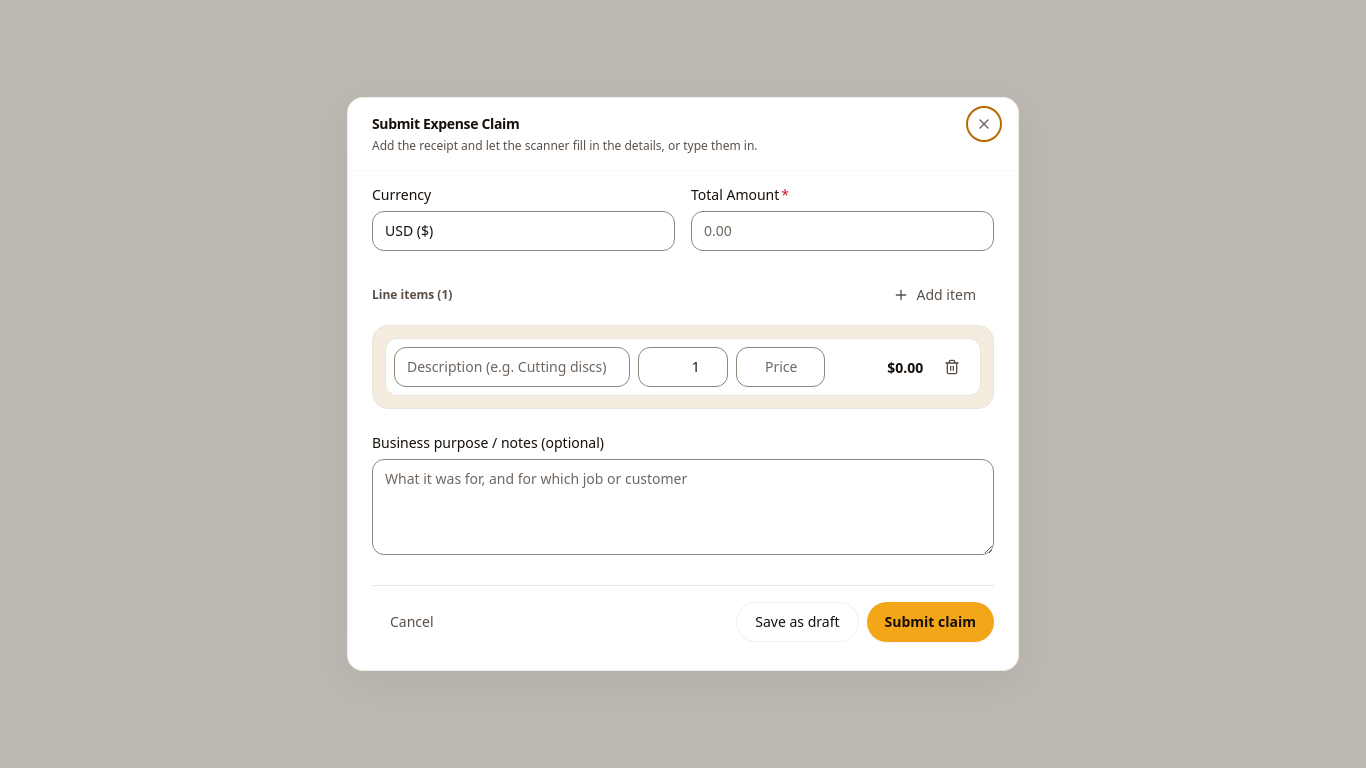
Scenario: SubmitExpenseModal Component › shows each problem under its field and moves focus to the first
The image size is (1366, 768).
(page scrolled)
Click the button with test id "btn-submit-claim" at (930, 622), box x1=866 y1=602 x2=994 y2=642
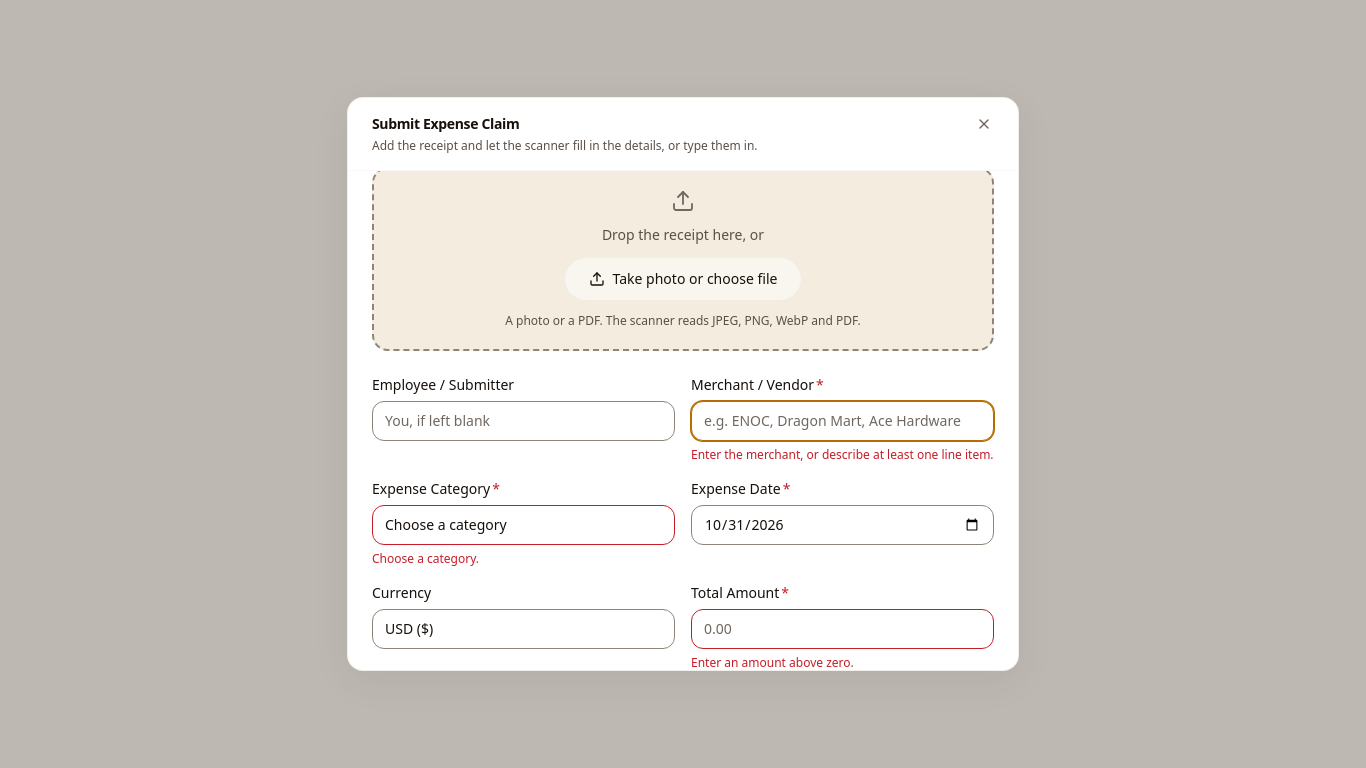
Result: the text "Enter the merchant, or describe at least one line item." is shown at x1=691 y1=447 x2=994 y2=463
Result: the text "Choose a category." is shown at x1=372 y1=550 x2=479 y2=567
Result: the text "Enter an amount above zero." is shown at x1=691 y1=654 x2=854 y2=670
// Fixing a field clears its message.
Type "ENOC" into the field with test id "input-merchant-name" at (842, 421), box x1=691 y1=401 x2=994 y2=441
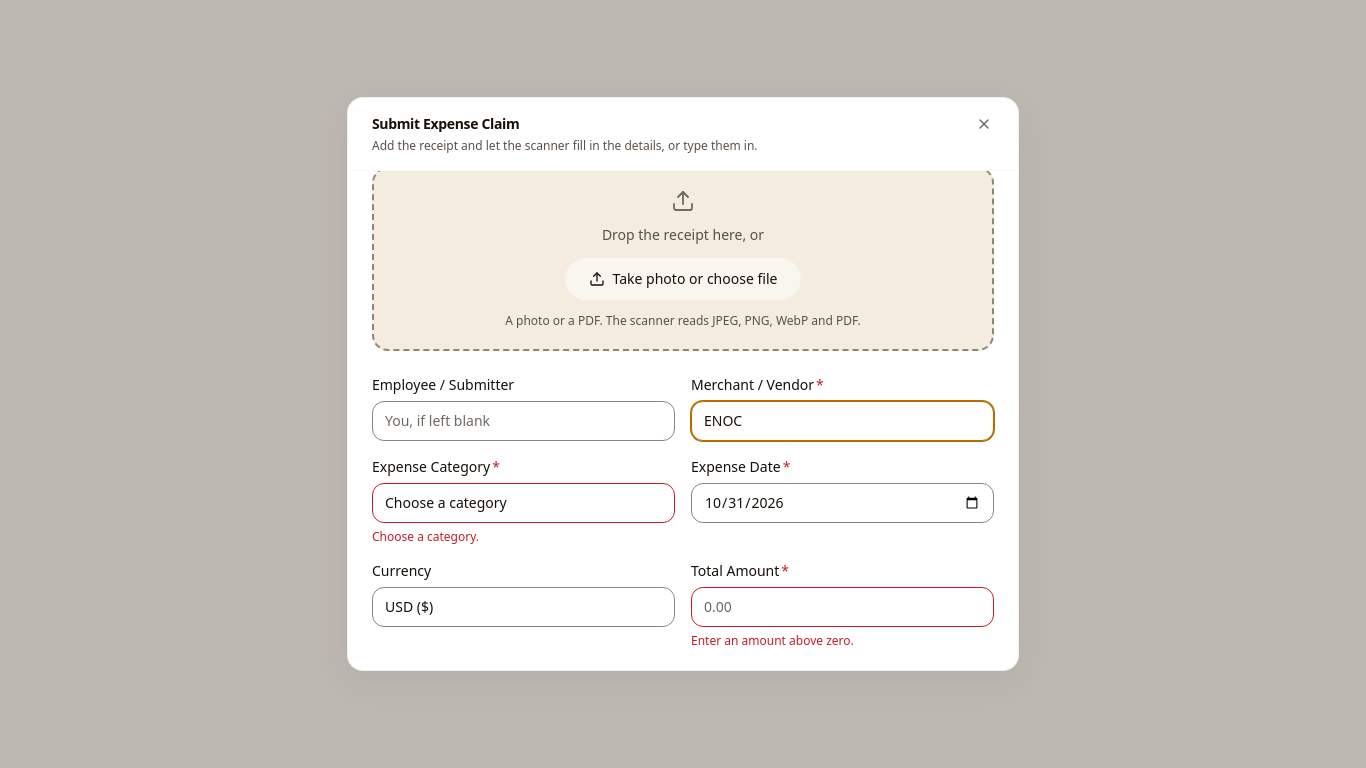
Result: the text "Enter the merchant, or describe at least one line item." is gone
